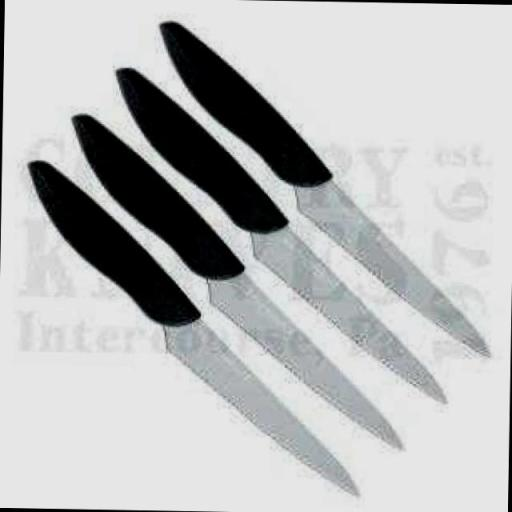knife: (18, 14, 506, 502)
